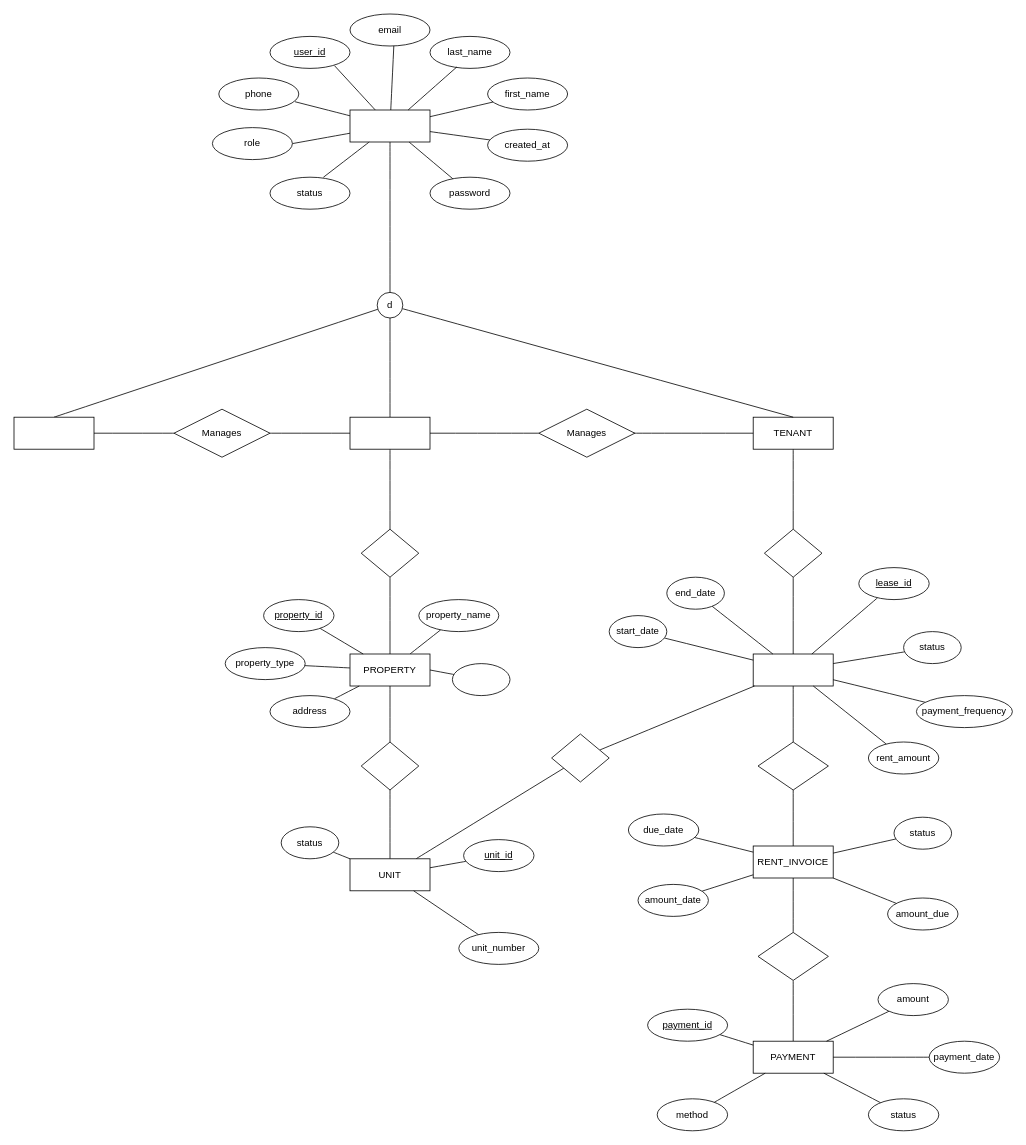
Some shapes in this 1026 by 1145 pixel diagram are drawn without their labels. Here are the shapes that lost their labels. From the top down, the box of each, then its label:
(349, 109, 430, 142): USER
(13, 416, 94, 449): ADMIN
(349, 416, 430, 449): OWNER
(360, 528, 419, 577): Owns
(764, 528, 822, 577): Signs
(452, 663, 510, 696): city
(752, 653, 833, 686): LEASE
(360, 741, 419, 790): Contains
(551, 733, 609, 782): Has
(757, 741, 828, 790): Generates
(757, 932, 828, 980): Receives
